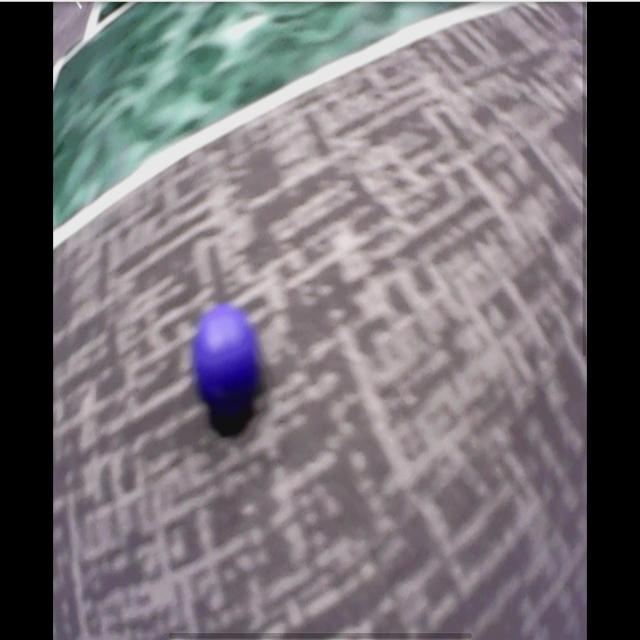ball: (198, 310, 255, 404)
